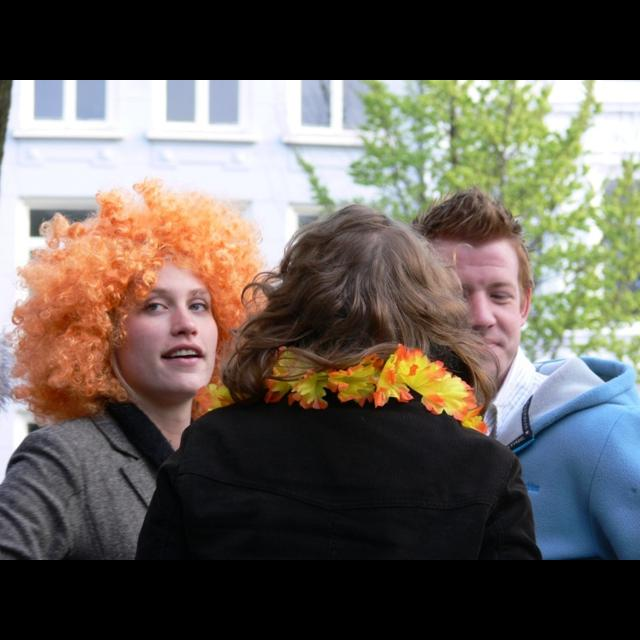Flower: (195, 348, 485, 432), (324, 362, 380, 402)
